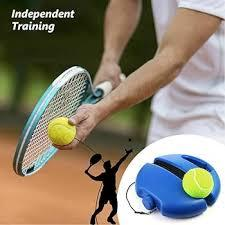ball_tennis: (183, 168, 214, 199), (49, 117, 77, 147)
